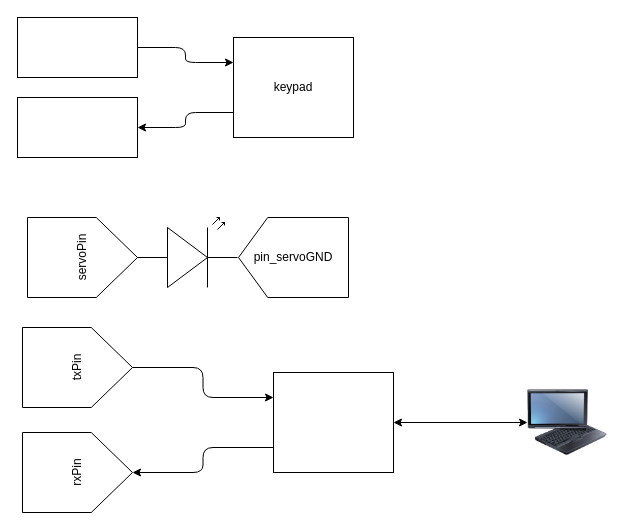
Image size: 625x530. Some labels were removed from this diagram. The centre of each missing label's shape, as x and y in pixels:
"FTDI UART - USB" belongs at pixel 333 422.
"KeypadInPins" belongs at pixel 77 127.
"KeypadOutPins" belongs at pixel 77 47.
